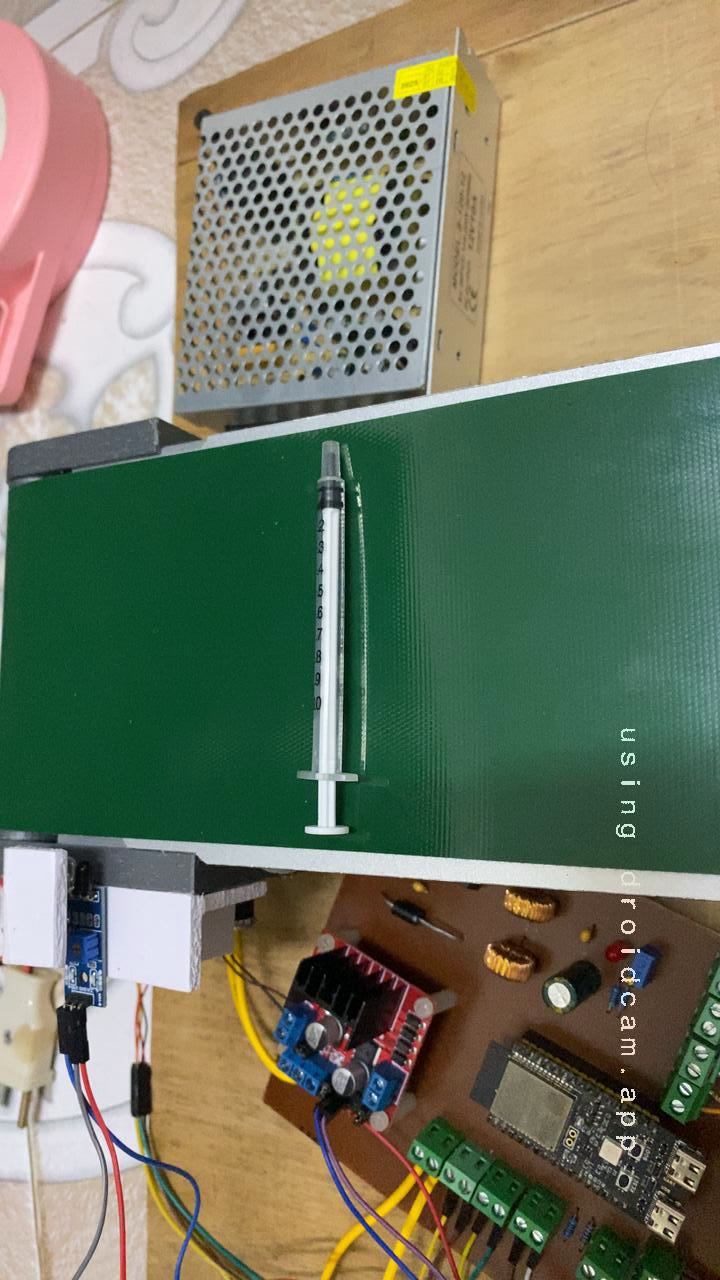syringe: (248, 427, 417, 856)
